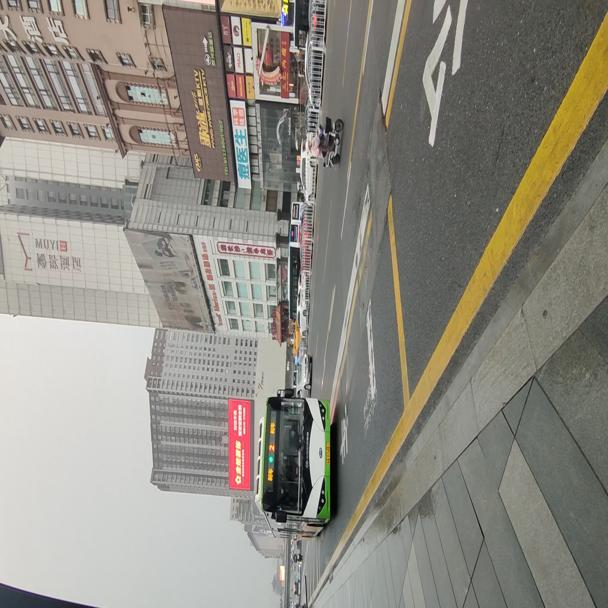bus: (254, 397, 333, 541)
screen: (268, 443, 274, 453)
